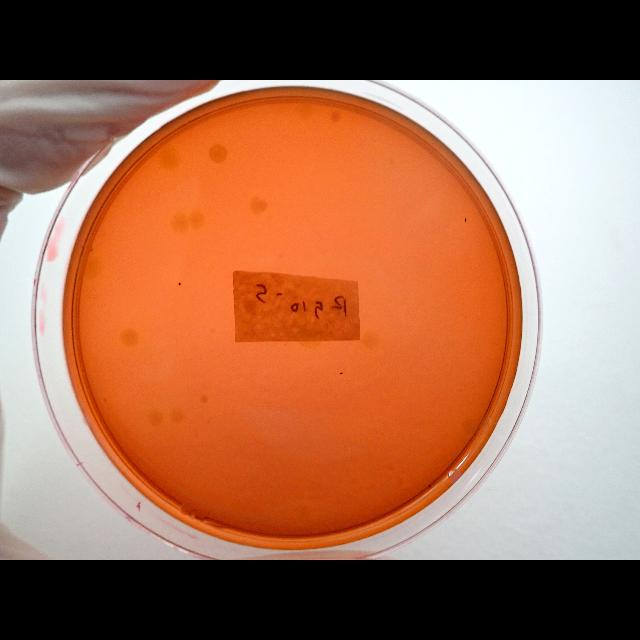colony: (339, 370, 345, 376), (464, 217, 468, 223), (177, 282, 181, 286), (428, 484, 432, 488)
